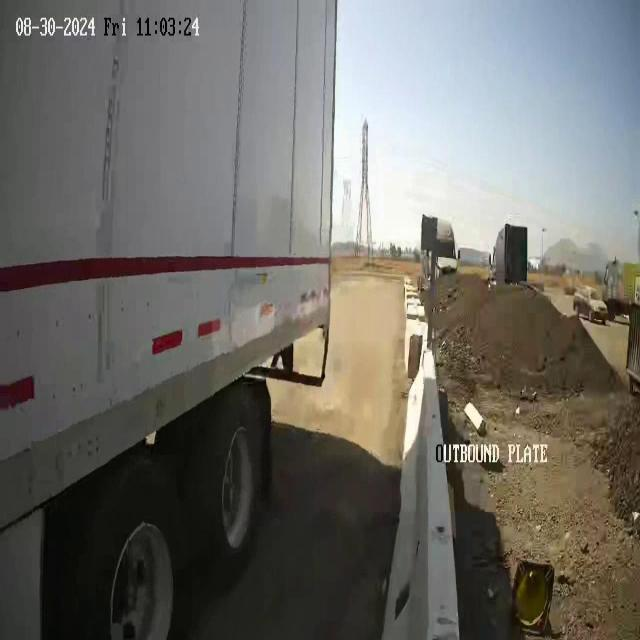TRUCK_OUT: (1, 1, 338, 637)
